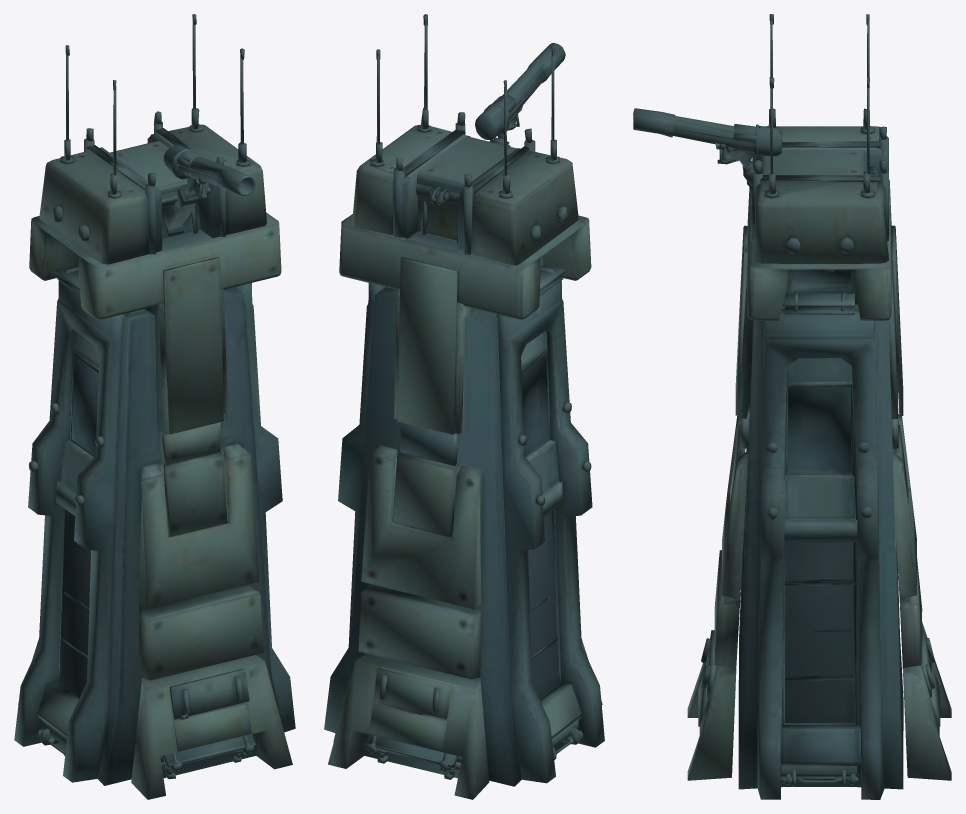
File: t_railgun_2.glb
The picture shows the model from 3 angles, left to right: view 1: azimuth 30°, elevation 25°; view 2: azimuth 150°, elevation 25°; view 3: azimuth 270°, elevation 25°; orthographic projection.
Size of the model in its own units: 0.3227 by 0.9512 by 0.3926.
Materials: 1 (1 with a texture image).
